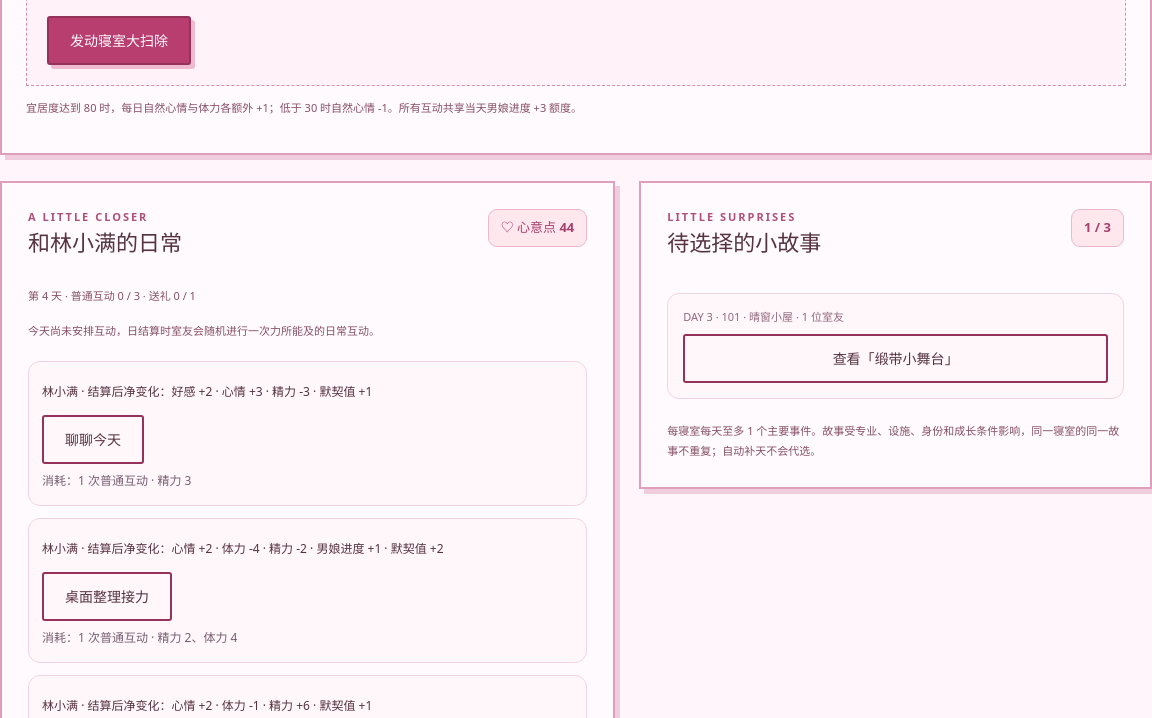
Test case: keeps branch rewards pending when closing and only applies a chosen outcome once
The width and height of the screenshot is (1152, 718).
(page scrolled)
Click the button "查看「缎带小舞台」". click: (896, 359)
box: [683,334,1108,384]
(page scrolled)
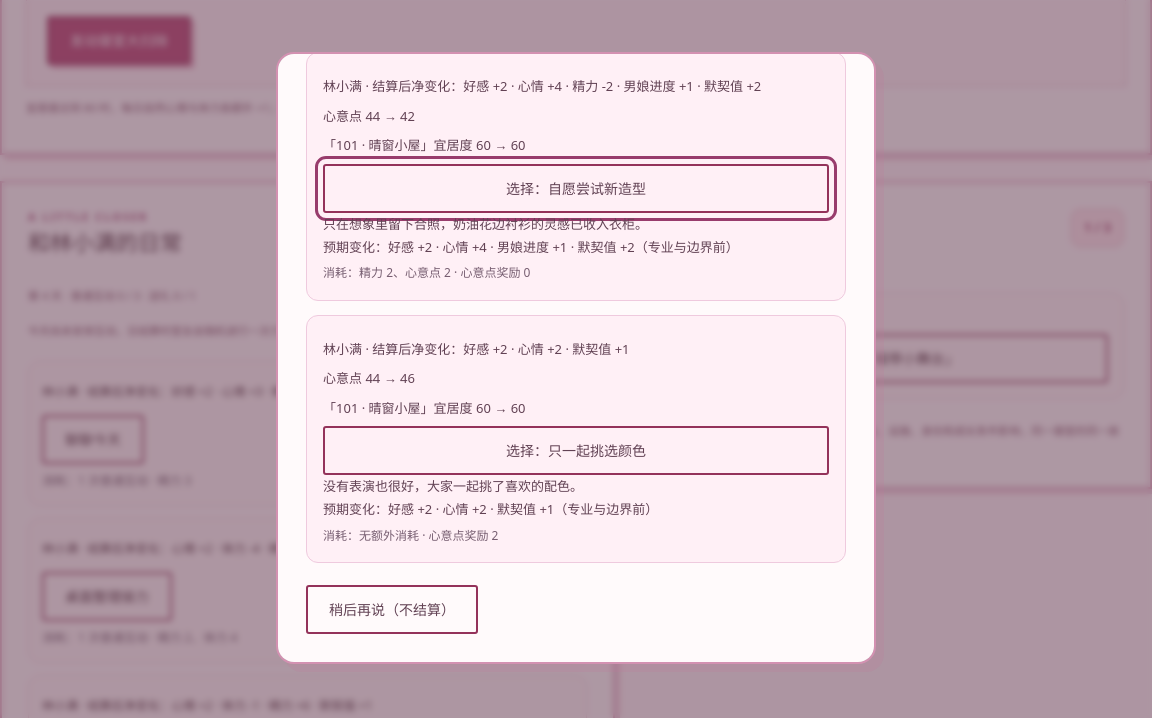
Click the button "稍后再说（不结算）". click: (392, 610)
box: [306,585,478,634]
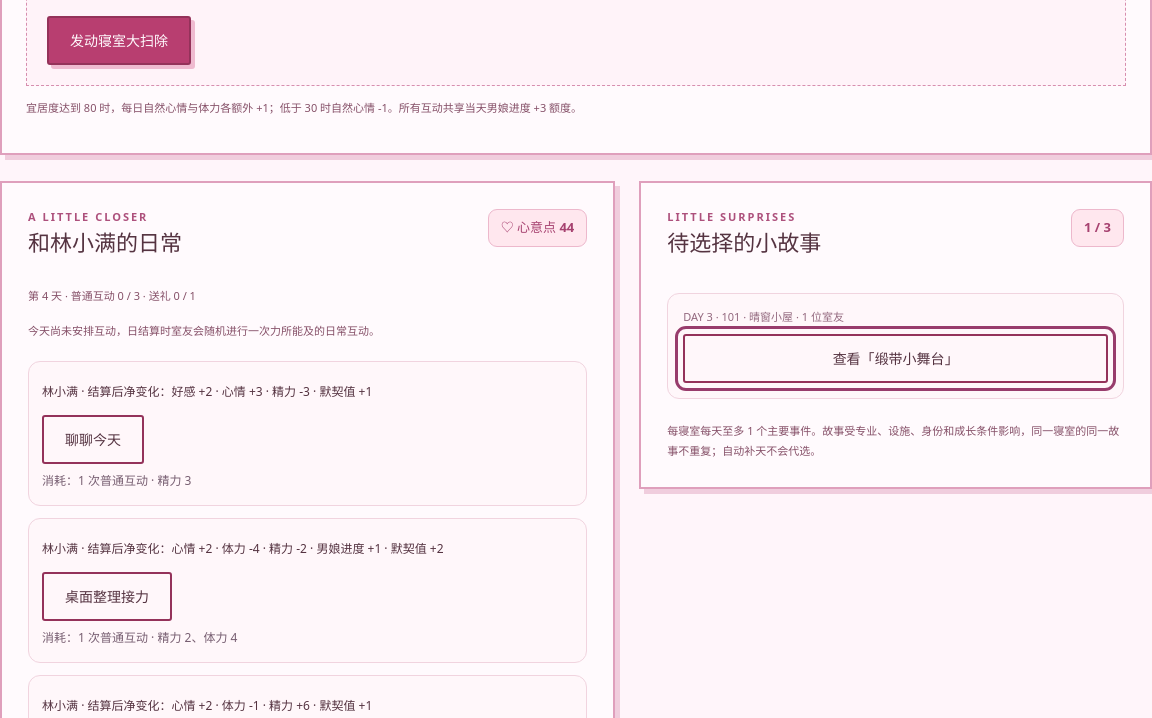
Click the button "查看「缎带小舞台」". click: (896, 359)
box: [683,334,1108,384]
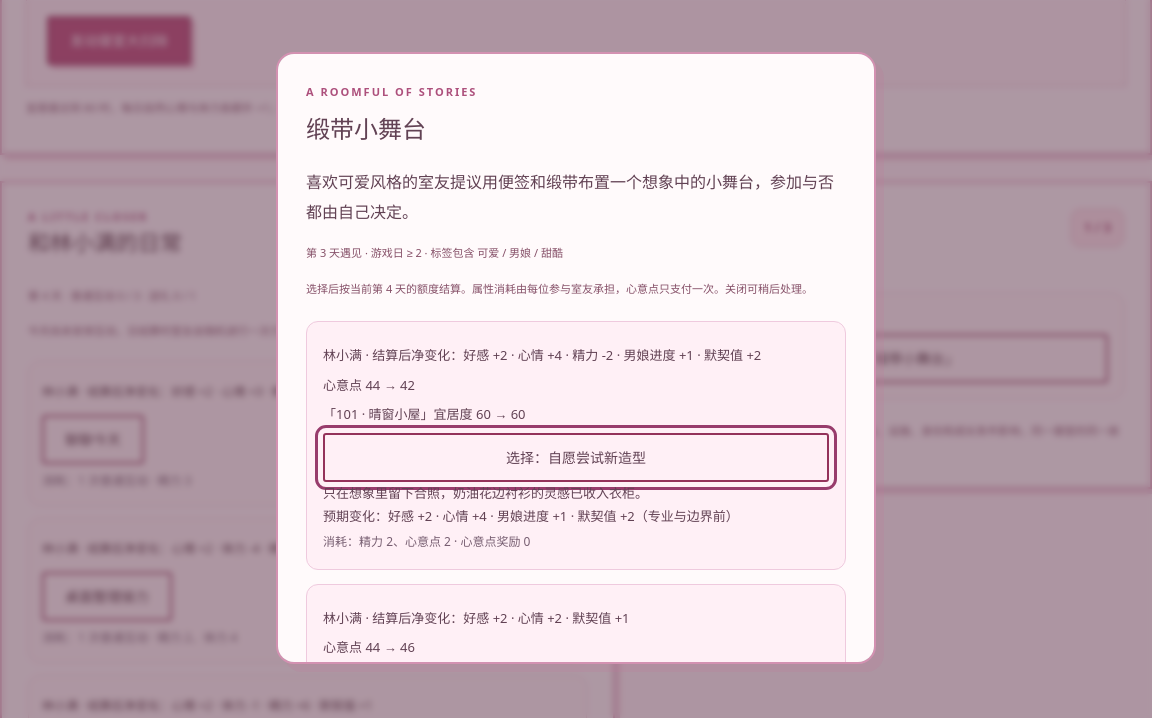
Click the button "选择：自愿尝试新造型". click: (576, 457)
box: [323,433,829,482]
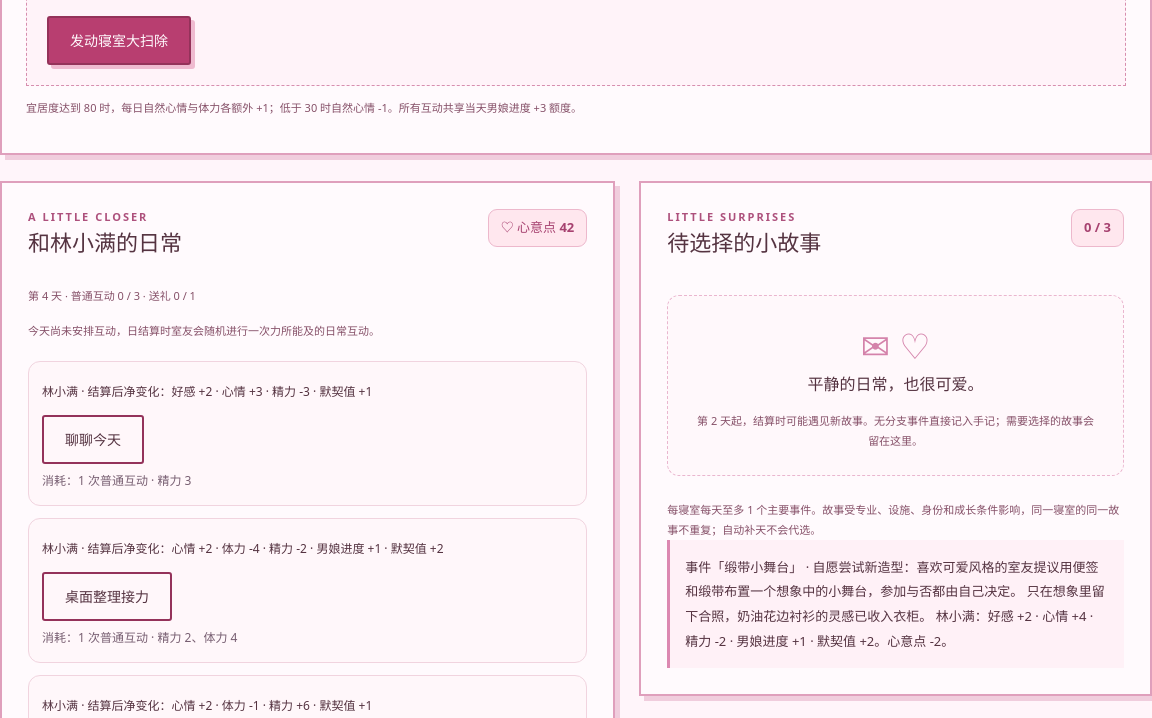
Result: the dialog is gone
Result: the button "查看「缎带小舞台」" is gone
